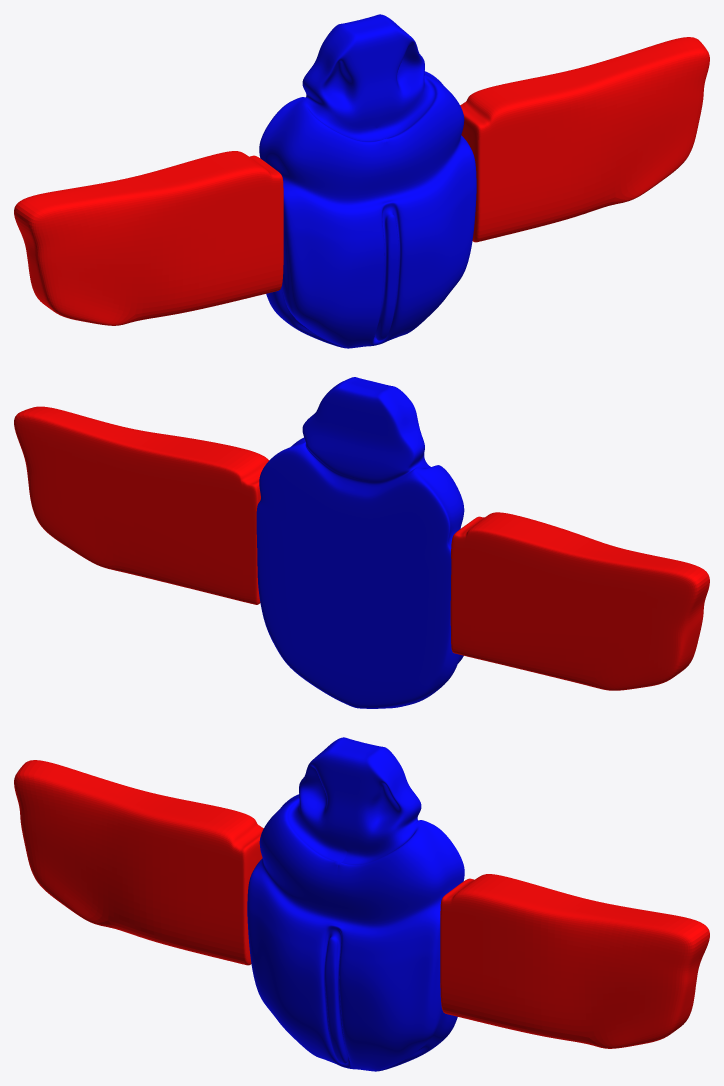
Rendered from BlueBeetle.fbx.
The picture shows the model from 3 angles, top to bottom: view 1: azimuth 30°, elevation 25°; view 2: azimuth 150°, elevation 25°; view 3: azimuth 330°, elevation 25°; orthographic projection.
Visible parts, largest first — view 1: wing, body; view 2: wing, body; view 3: wing, body.
Part boxes in pixels (x1,y1,x2,y2): wing: (14, 37, 709, 325); body: (259, 14, 476, 348); wing: (14, 406, 709, 690); body: (256, 377, 464, 708); wing: (14, 760, 709, 1048); body: (247, 737, 464, 1071).
Bounding box in the file's own units: 1272 × 563 × 131.
